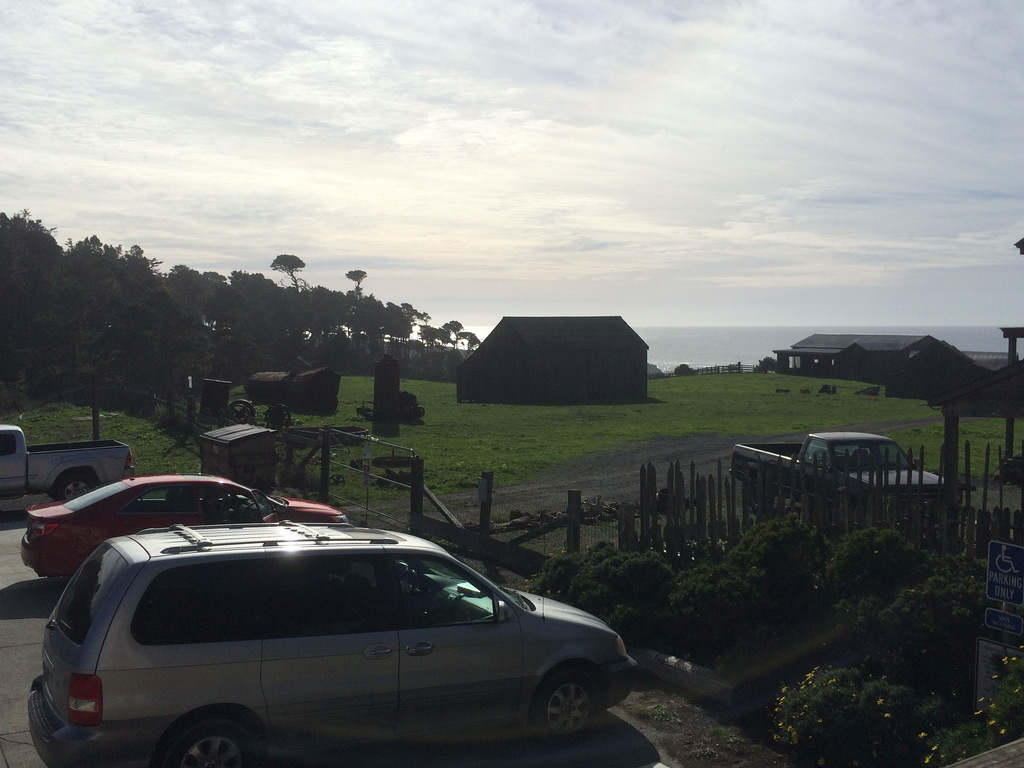Car: (23, 523, 650, 767), (19, 470, 349, 588)
